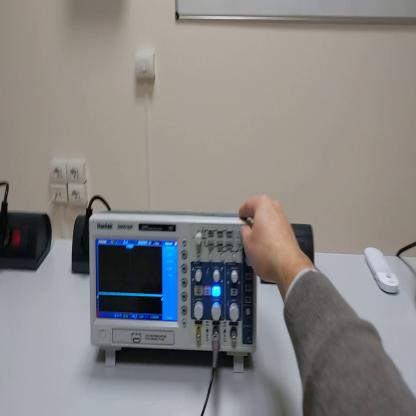hand: (239, 194, 298, 286)
oscilloscope: (88, 214, 255, 375)
socket: (1, 210, 54, 273), (73, 213, 91, 276)
